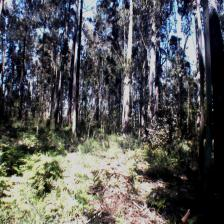trunktrack_idkeyframe: (202, 83, 213, 186)
